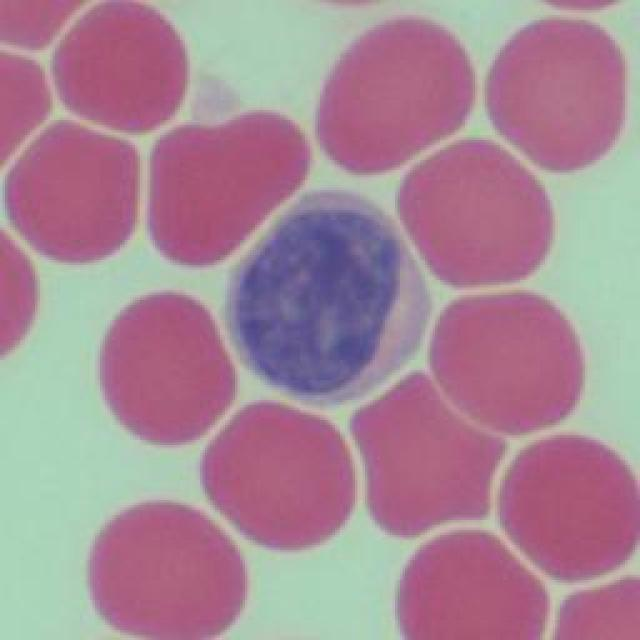RBC: (312, 16, 476, 176), (142, 110, 310, 265), (354, 372, 501, 538), (401, 138, 554, 288), (433, 287, 585, 435), (91, 497, 248, 640), (486, 15, 626, 175), (203, 404, 355, 551), (502, 436, 638, 584), (11, 120, 141, 268), (102, 294, 230, 441), (59, 1, 189, 129), (392, 532, 546, 640), (0, 50, 52, 175), (0, 231, 42, 358), (557, 577, 640, 640), (0, 0, 80, 50)
WBC: (223, 185, 435, 407)
